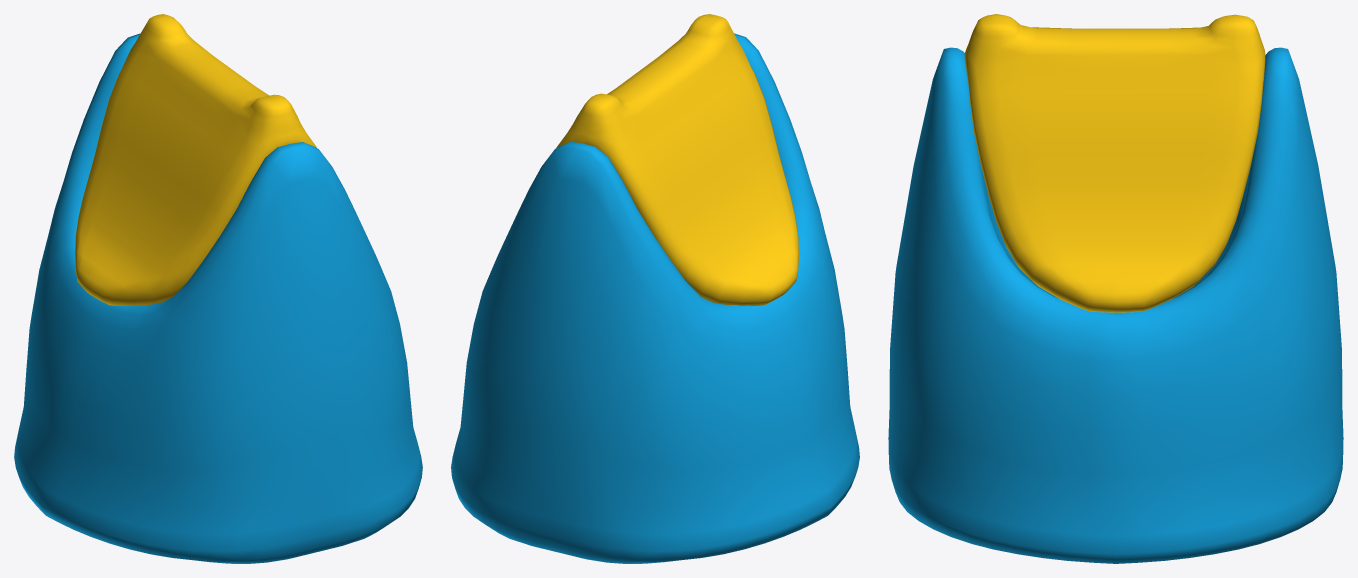
The model's file is TrashCan.fbx.
3 renders of one model, left to right at view 1: azimuth 30°, elevation 25°; view 2: azimuth 150°, elevation 25°; view 3: azimuth 270°, elevation 25°, orthographic. The views are drawn at different scales.
Visible parts, largest first — view 1: Bin, Lid; view 2: Bin, Lid; view 3: Bin, Lid.
Boxes of the visible parts, x1,y1,x2,y2 form: Bin: (14, 33, 422, 563); Lid: (75, 14, 316, 305); Bin: (451, 33, 859, 563); Lid: (556, 14, 798, 305); Bin: (888, 47, 1343, 563); Lid: (964, 14, 1265, 312).
Size of the model in its own units: 2631 by 3043 by 2706.
